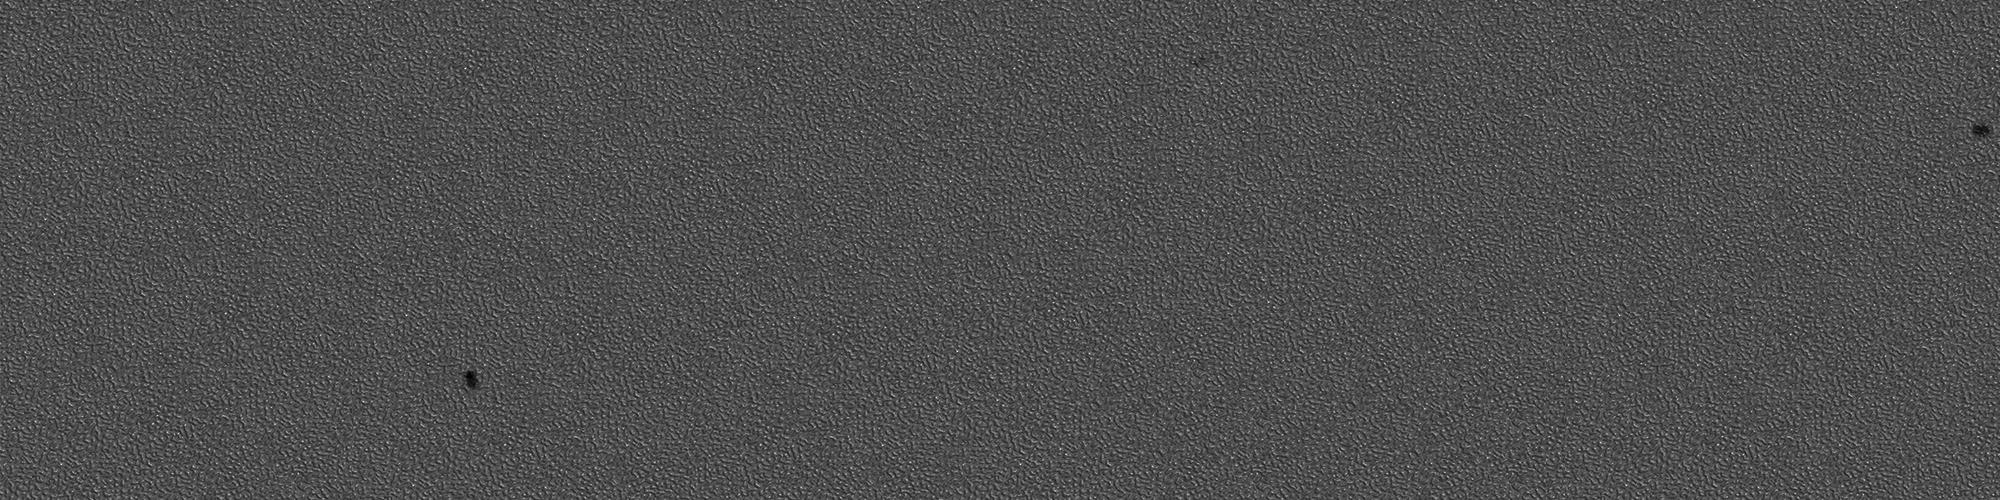Decomposed: (460, 364, 489, 403), (1190, 48, 1213, 68)
